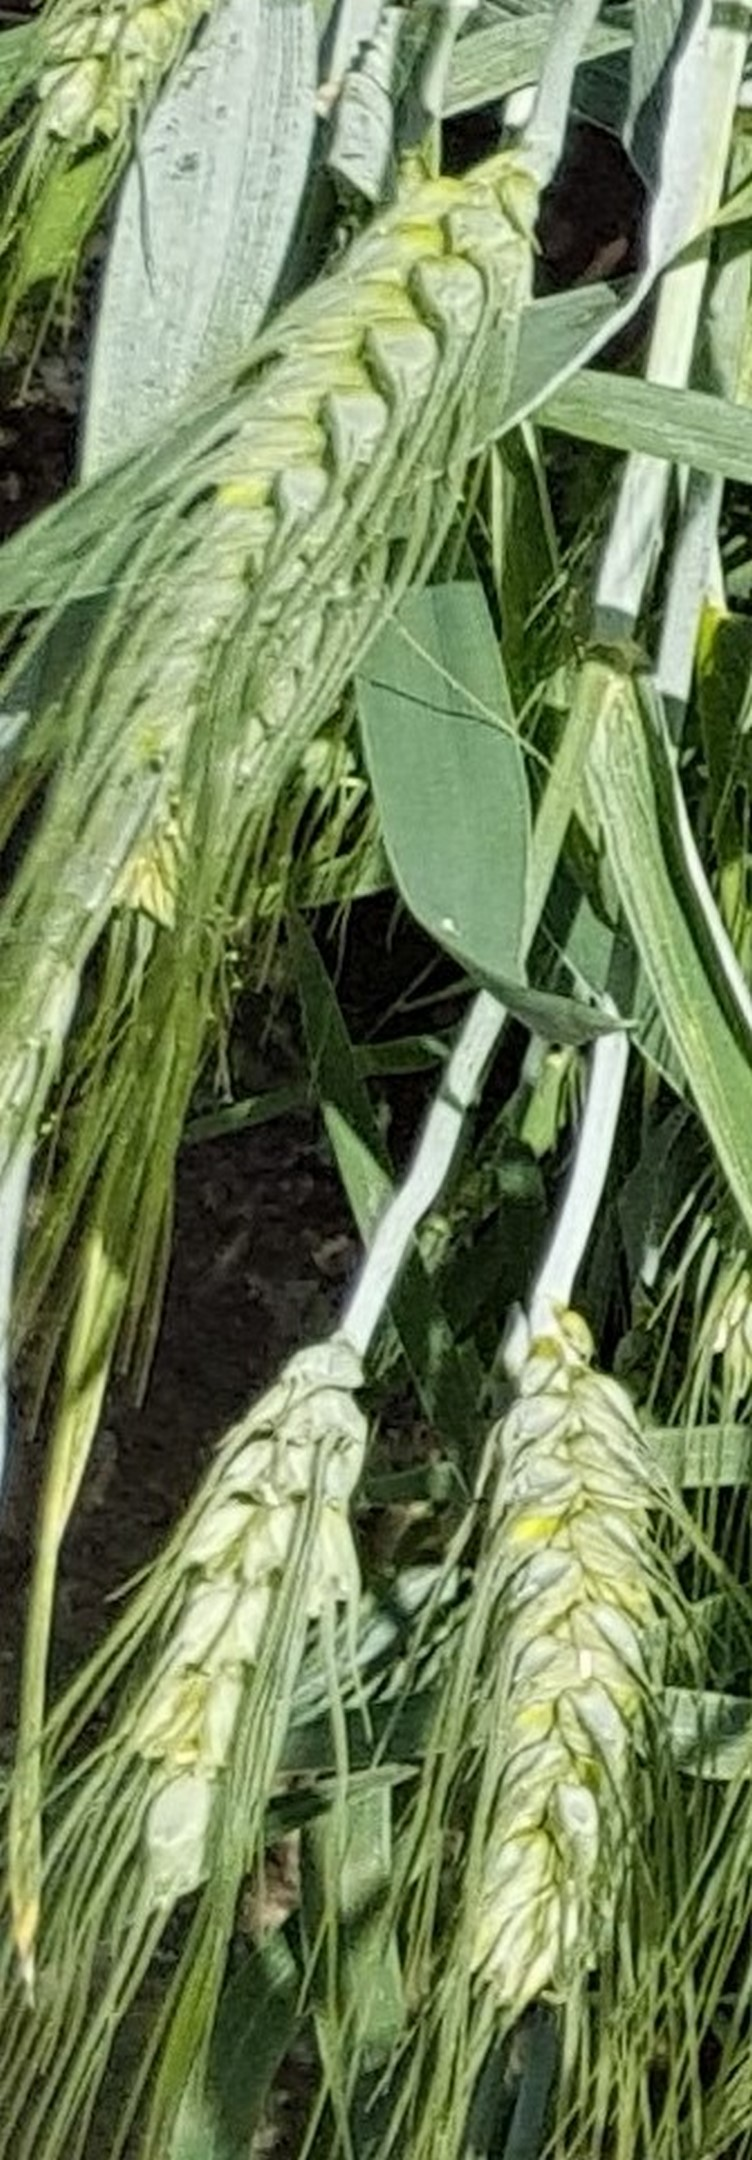Healthy Wheat: (448, 1277, 667, 2010)
